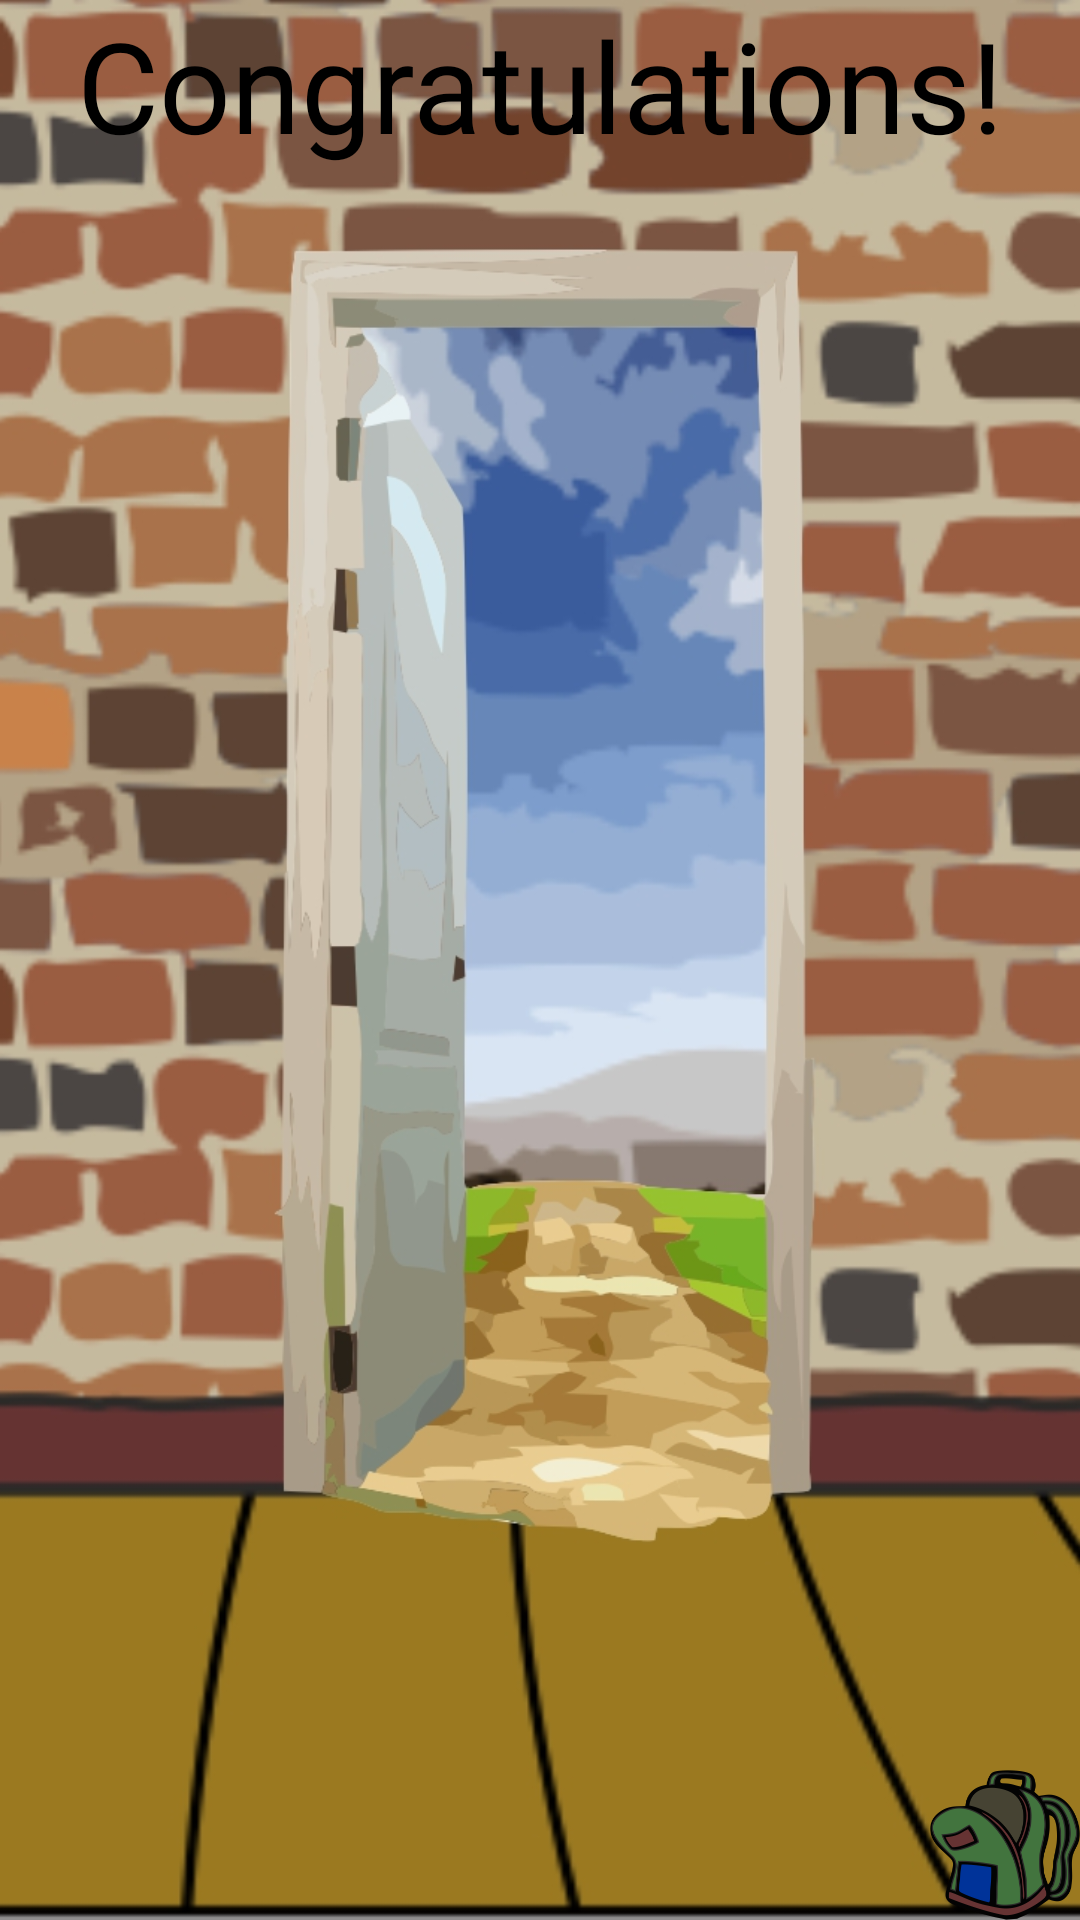

Where icons sit on this 1080 × 1920 app screen, as [x1, y1, x2, y2]:
backpack: [930, 1770, 1080, 1920]
